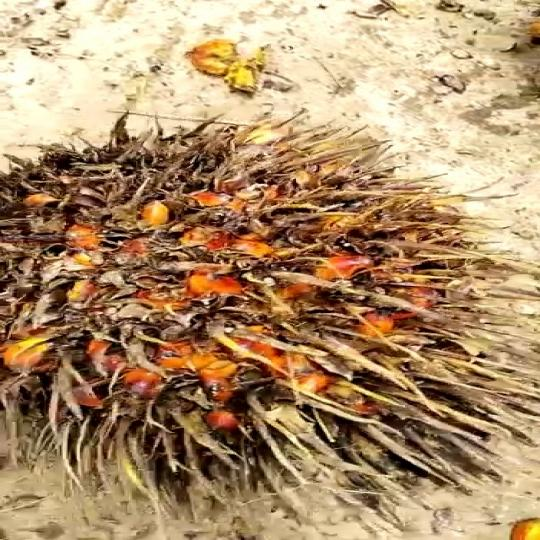terlalu masak: (0, 115, 540, 540)
